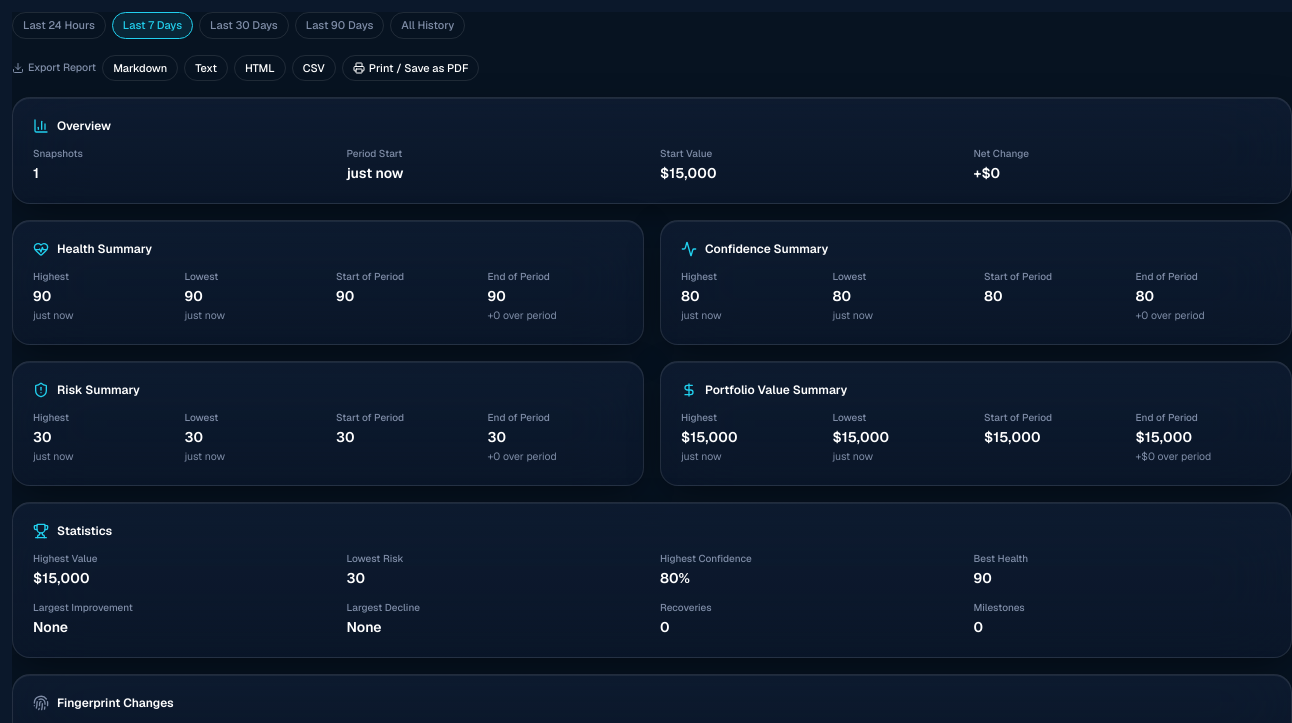
it: WalletReportView › switching to 'All History' regenerates the report for that real period
The image size is (1292, 723).
Expected: the text "1" is shown, [33,164,39,182]
Click the button "All History".
click(428, 25)  # box [390,12,465,38]
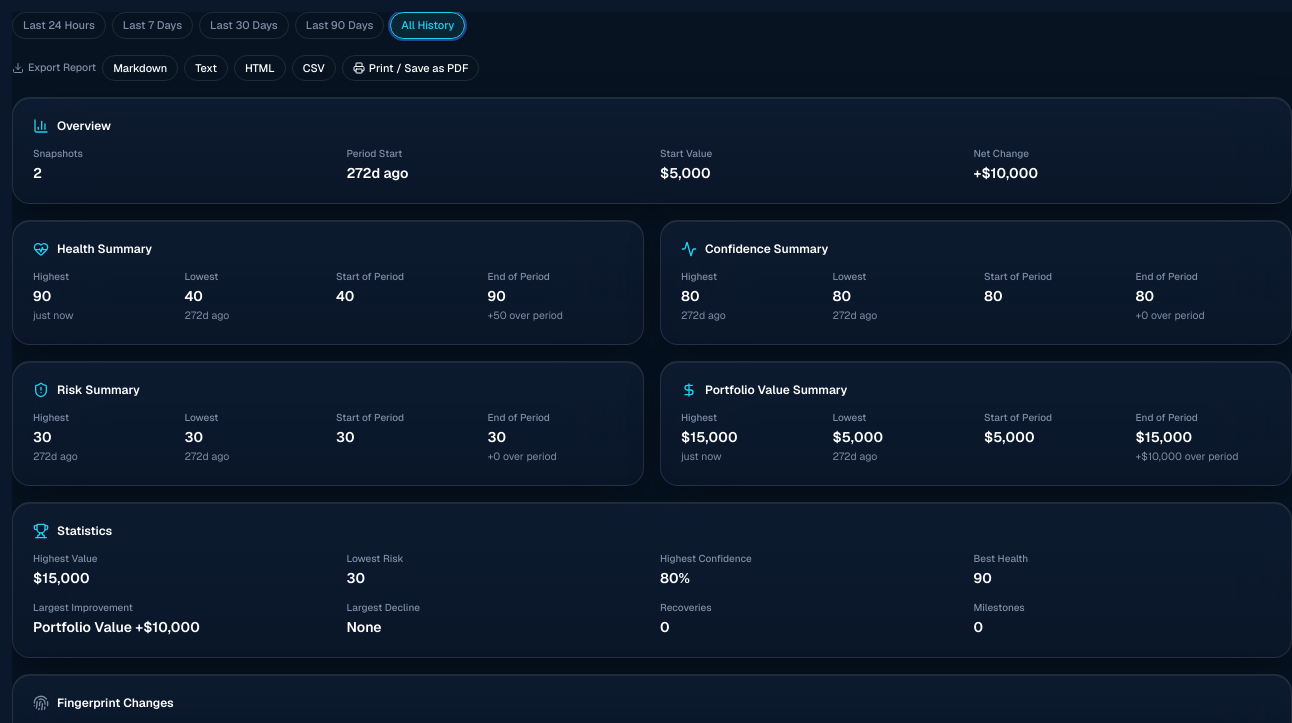
Expected: the text "2" is shown, [33,164,42,182]
